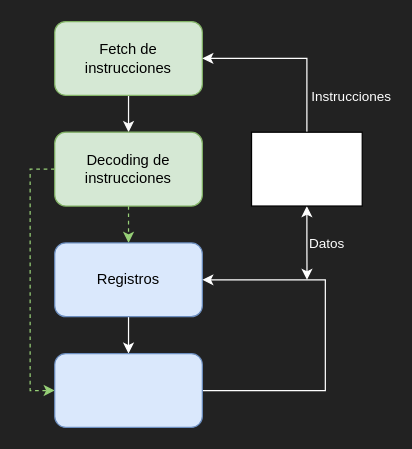
Some shapes in this 412 by 449 pixel diagram are drawn without their labels. The centre of each missing label's shape, as x and y in pixels:
"Memoria" goes at pixel 306 168.
"Unidad aritmética-lógica (ALU" goes at pixel 128 389.
